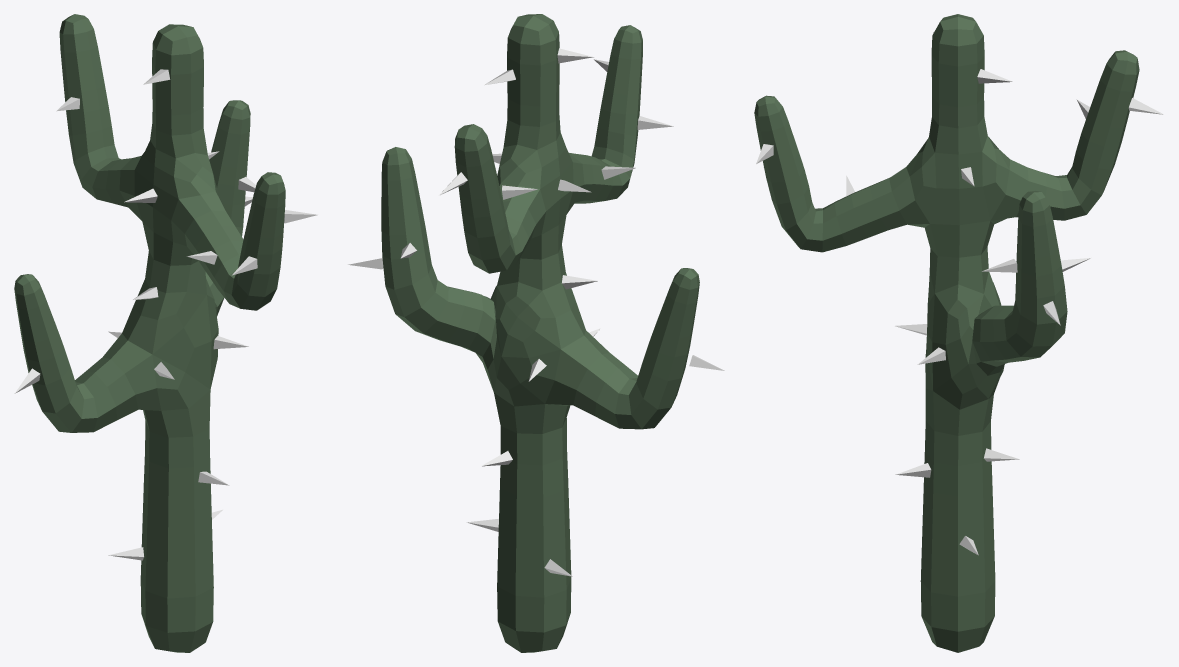
The model's file is Kaktus.fbx.
3 views of the same model, side by side, from view 1: azimuth 30°, elevation 25°; view 2: azimuth 150°, elevation 25°; view 3: azimuth 270°, elevation 25° (orthographic).
Visible parts, largest first — view 1: Plane; view 2: Plane; view 3: Plane.
Boxes of the visible parts, bbox=[...] form: Plane: bbox=[14, 14, 285, 652]; Plane: bbox=[381, 14, 699, 652]; Plane: bbox=[754, 14, 1139, 652].
Size of the model in its own units: 209 by 405 by 237.
